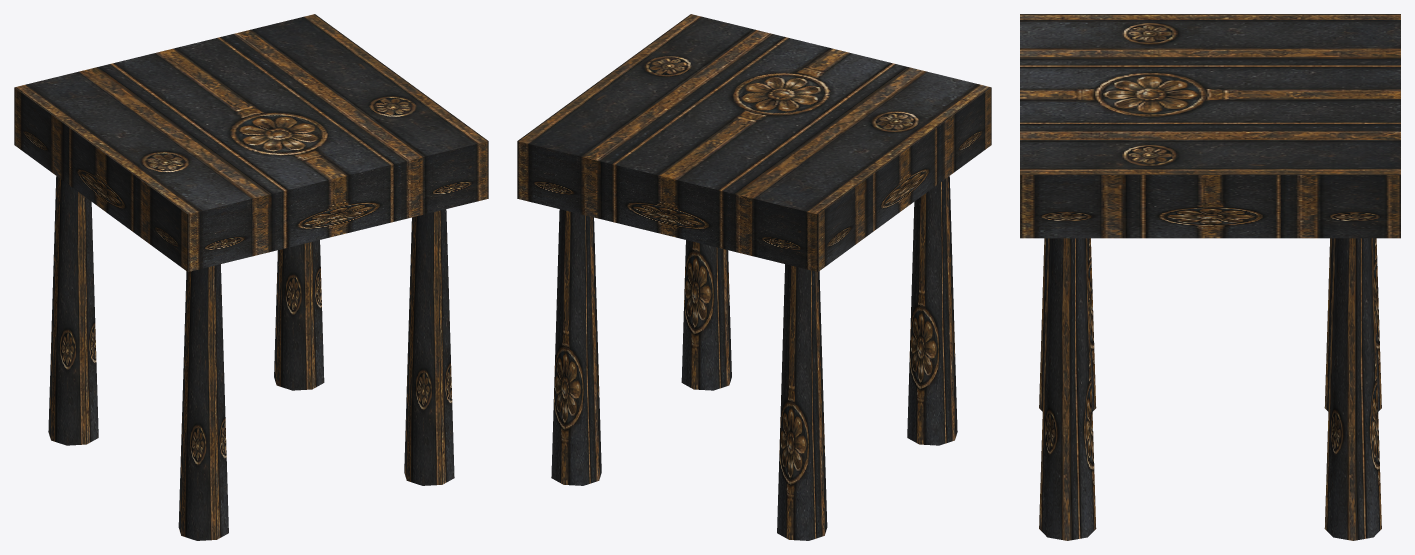
Rendered from side-table.gltf.
3 views of the same model, side by side, from view 1: azimuth 30°, elevation 25°; view 2: azimuth 150°, elevation 25°; view 3: azimuth 270°, elevation 25° (orthographic). The views are drawn at different scales.
Visible parts, largest first — view 1: kit:0:furniture:mahogany:; view 2: kit:0:furniture:mahogany:; view 3: kit:0:furniture:mahogany:.
Part boxes in pixels (left/top/right/bottom): kit:0:furniture:mahogany:: left=14, top=14, right=488, bottom=540; kit:0:furniture:mahogany:: left=517, top=14, right=991, bottom=540; kit:0:furniture:mahogany:: left=1020, top=14, right=1400, bottom=540.
Size of the model in its own units: 0.6 by 0.65 by 0.6.
1 material, 1 textured.
